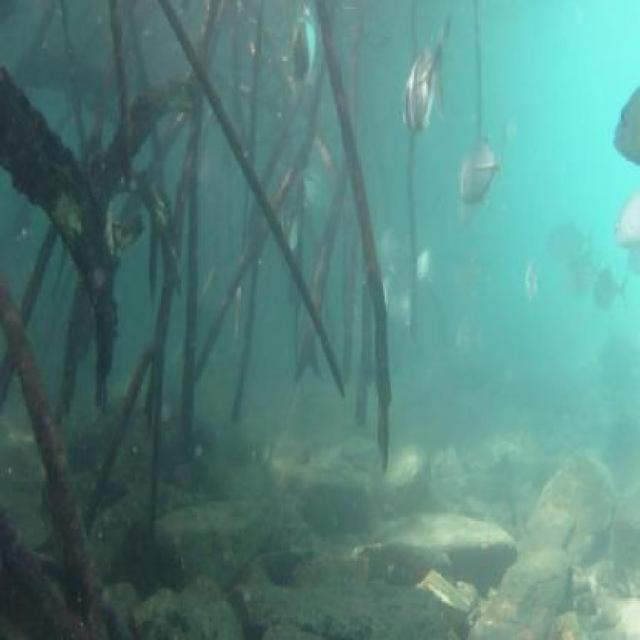Caranx_sexfasciatus_juvenile: (398, 10, 454, 142), (452, 129, 512, 216), (446, 235, 499, 311), (601, 77, 640, 171), (281, 4, 324, 88), (375, 272, 420, 352), (585, 256, 633, 326), (440, 314, 485, 378), (296, 158, 336, 227), (549, 218, 596, 270), (560, 242, 592, 306), (612, 188, 640, 260), (408, 235, 438, 293), (372, 218, 400, 276), (513, 253, 538, 304)
